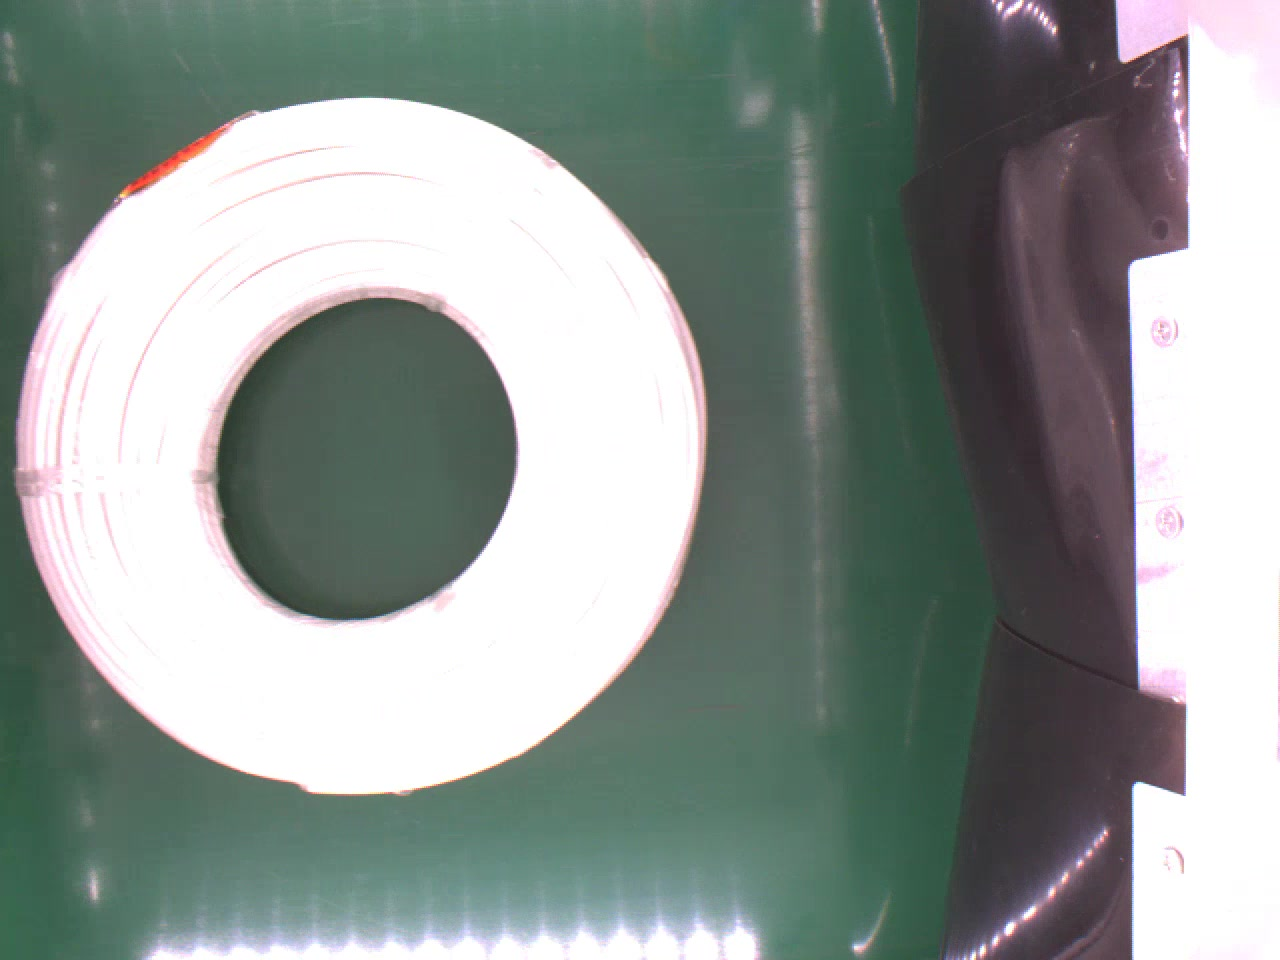white: (15, 93, 707, 802)
